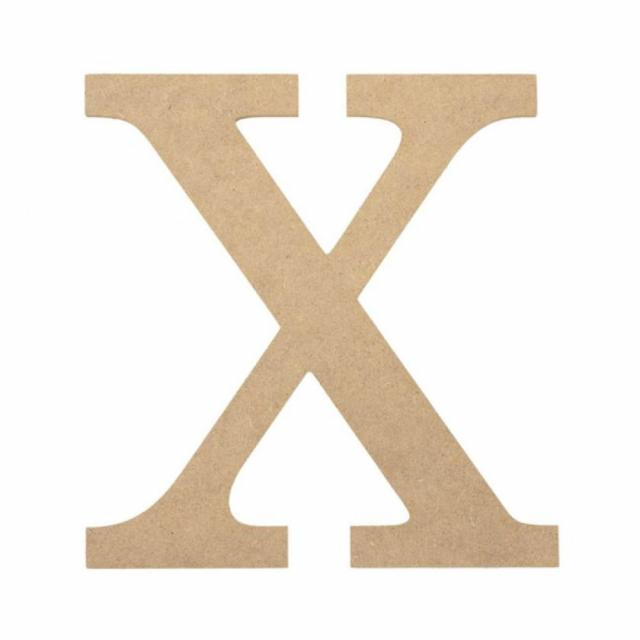X: (54, 38, 590, 604)
